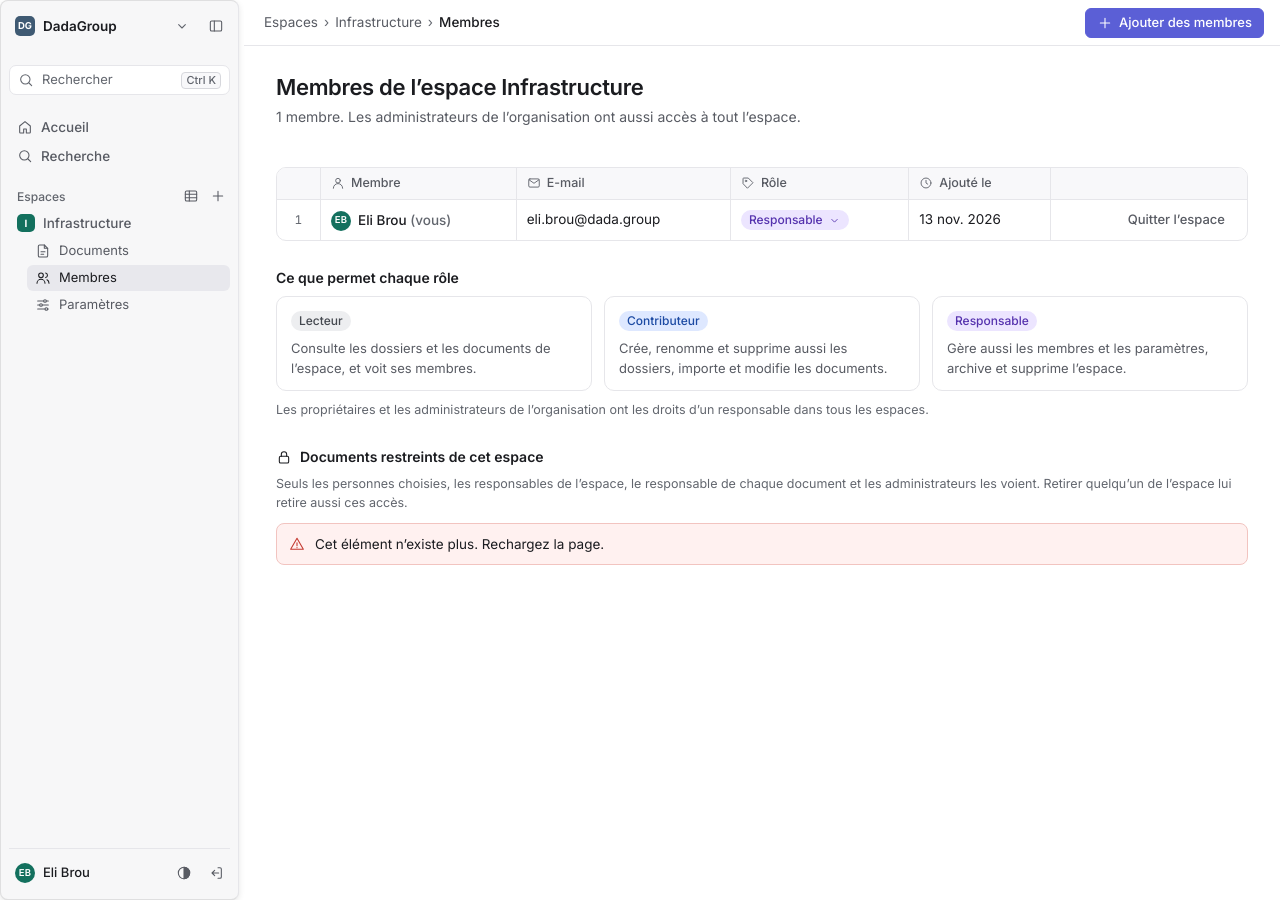
Test case: spaces › keeps the last maintainer of a space
expect the heading "Membres de l’espace Infrastructure" is shown: met, box [276,74,643,100]
Click the button "Quitter l’espace": coordinates (1176, 220) [1116,204,1237,234]
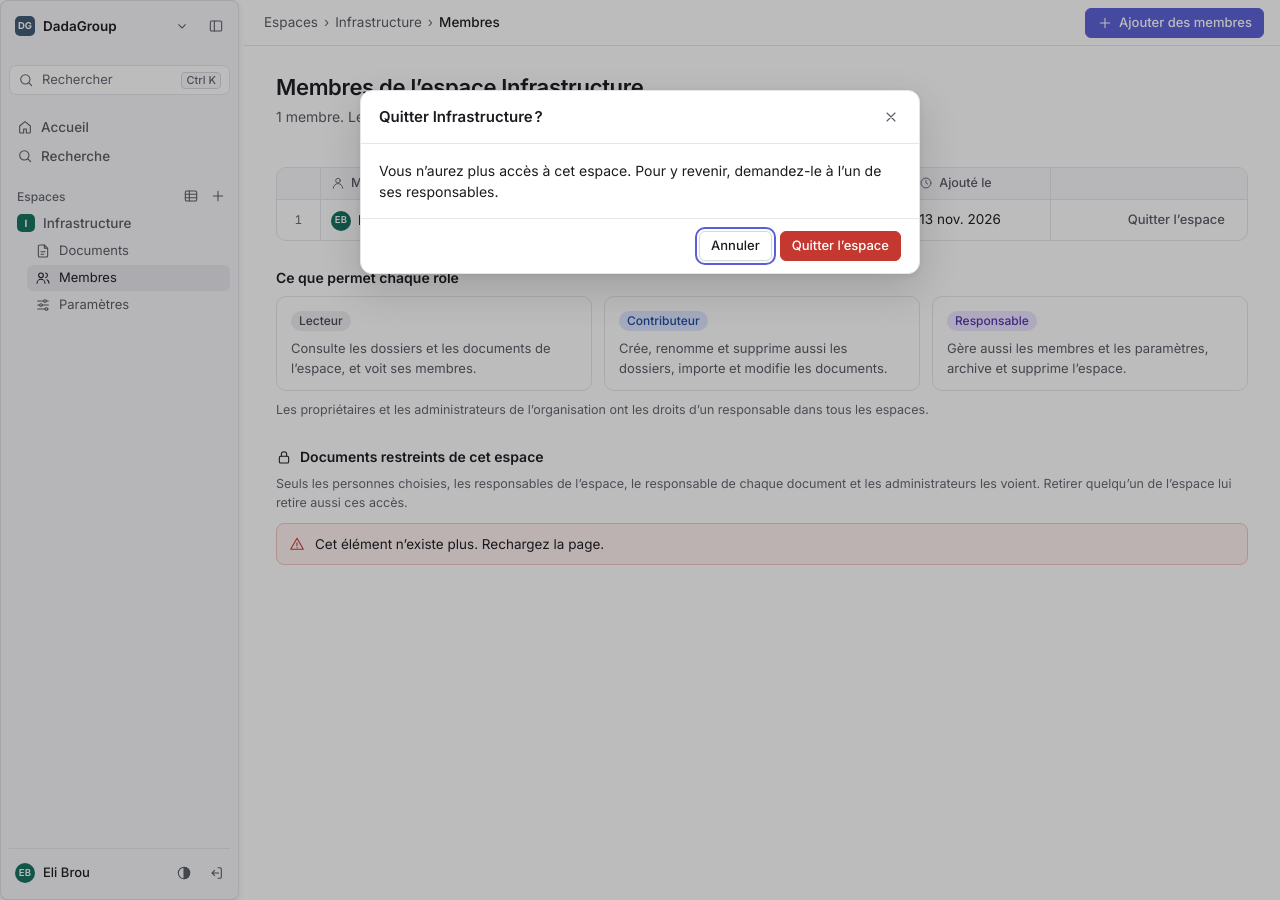
Note: French typography puts a narrow no-break space before the question mark.
Click the button "Quitter l’espace": coordinates (840, 246) [780,231,901,261]
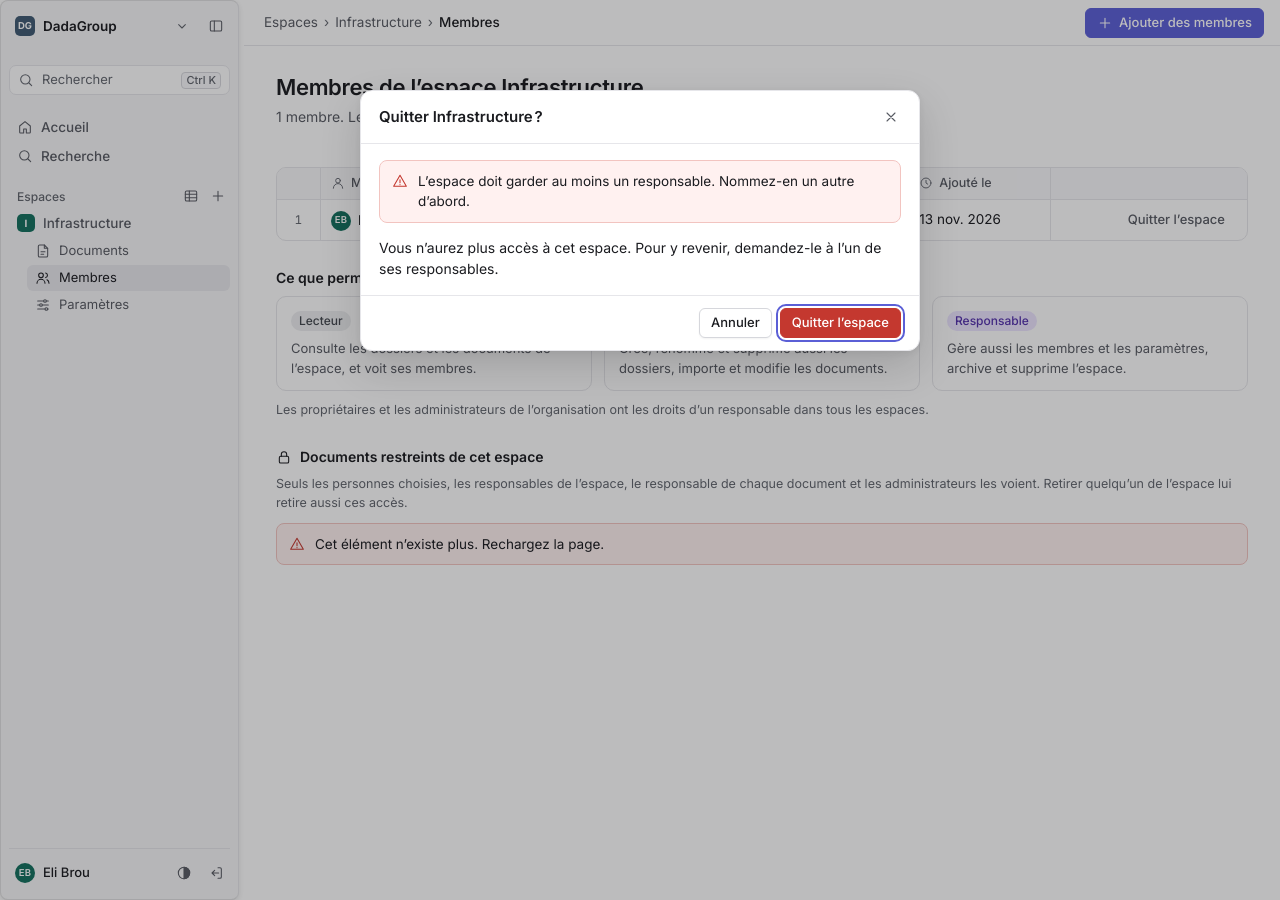
expect the message shows "L’espace doit garder au moins un responsable.": met, box [418,173,854,209]
